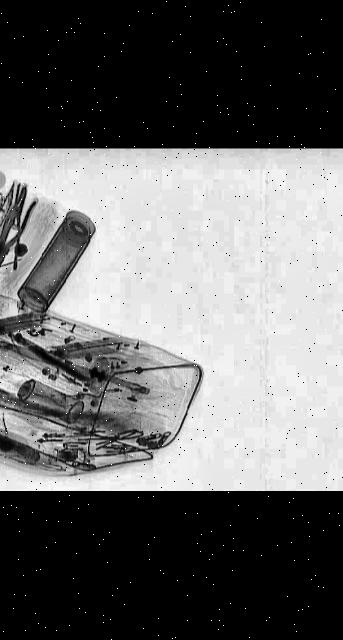Pliers: (0, 196, 39, 282)
